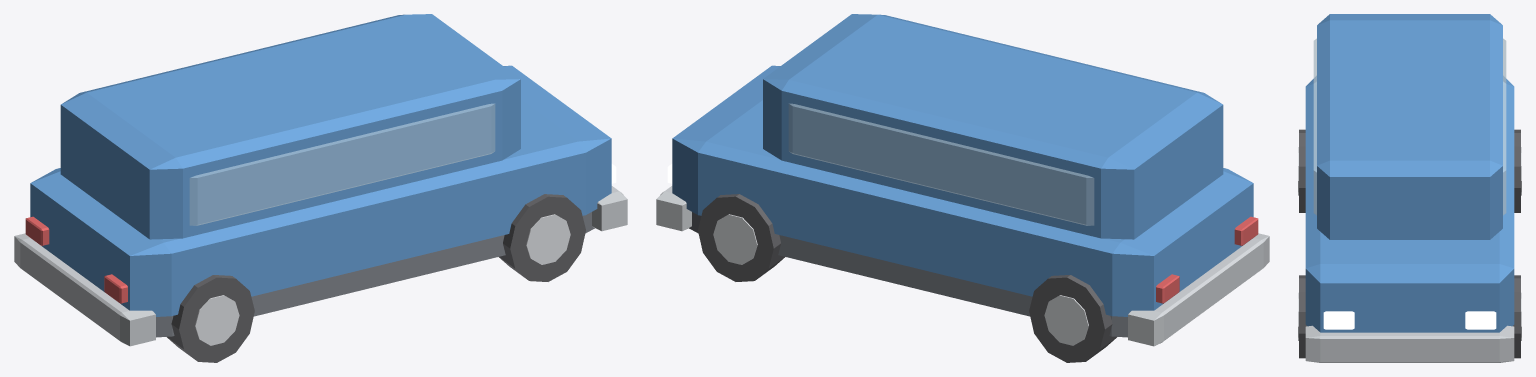
The model's file is b03_wheelchair_accessible_van.glb.
3 renders of one model, left to right at view 1: azimuth 30°, elevation 25°; view 2: azimuth 150°, elevation 25°; view 3: azimuth 270°, elevation 25°, orthographic. The views are drawn at different scales.
Parts seen in each view (by area): view 1: b03_wheelchair_accessible_van; view 2: b03_wheelchair_accessible_van; view 3: b03_wheelchair_accessible_van.
Boxes of the visible parts, box(x1,y1,x2,y2) form: b03_wheelchair_accessible_van: box(14, 14, 627, 362); b03_wheelchair_accessible_van: box(656, 14, 1269, 362); b03_wheelchair_accessible_van: box(1298, 14, 1521, 362).
Size of the model in its own units: 5.59 by 2.12 by 2.4.
